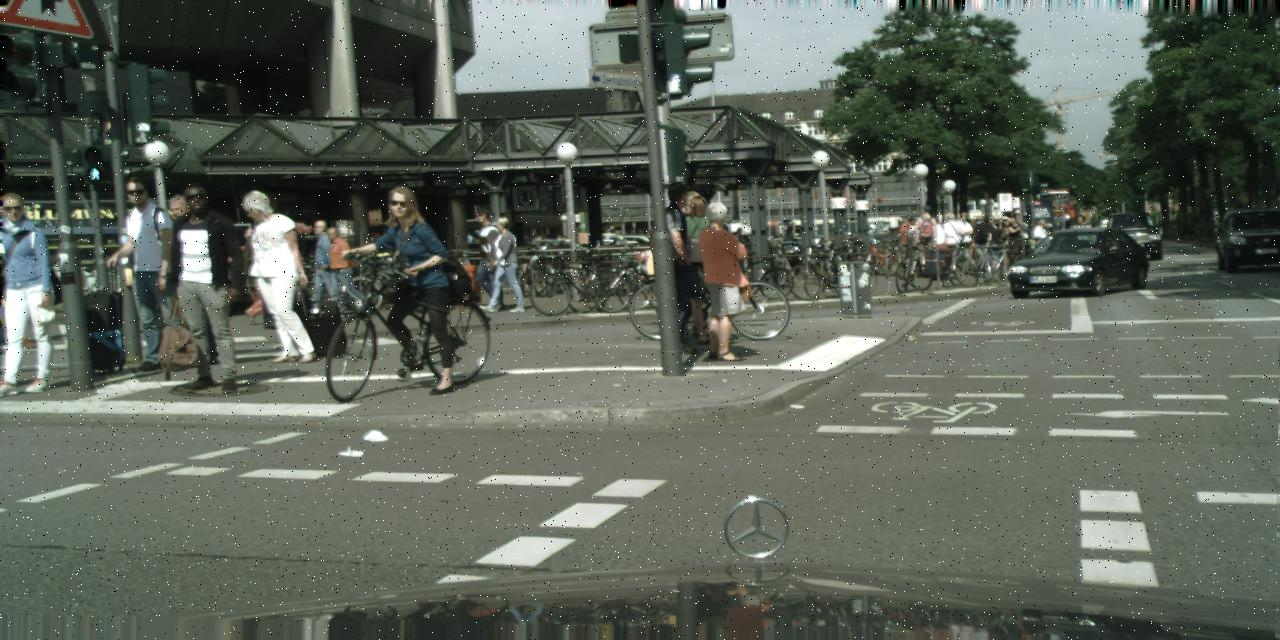ped: (164, 184, 248, 390), (372, 186, 452, 385), (102, 178, 182, 371), (241, 190, 311, 362), (0, 193, 59, 394), (643, 185, 711, 352), (685, 200, 750, 360), (148, 194, 208, 341), (669, 196, 727, 338), (253, 221, 295, 326), (302, 220, 342, 319), (483, 216, 522, 312), (465, 211, 504, 306), (323, 227, 359, 314), (913, 205, 938, 267), (950, 210, 974, 272), (938, 212, 961, 270), (975, 214, 997, 270), (926, 218, 946, 269), (1070, 214, 1090, 264), (900, 218, 920, 264), (1032, 220, 1049, 262), (1006, 218, 1022, 258), (998, 218, 1012, 256), (899, 218, 918, 236)
